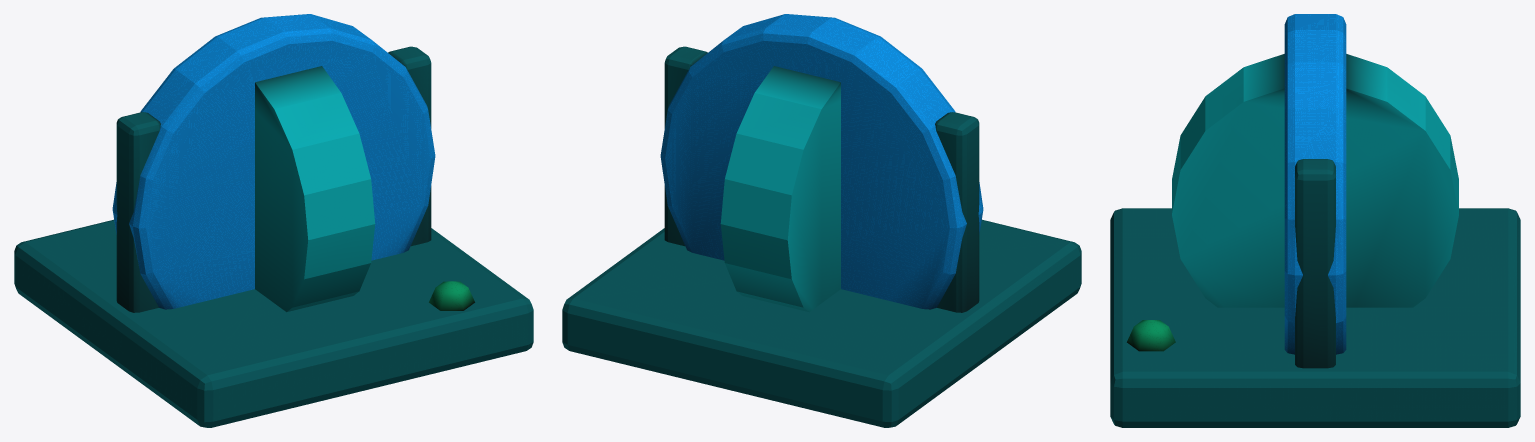
File: part_gyro.glb
3 views of the same model, side by side, from view 1: azimuth 30°, elevation 25°; view 2: azimuth 150°, elevation 25°; view 3: azimuth 270°, elevation 25° (orthographic). The views are drawn at different scales.
Visible parts, largest first — view 1: part_gyro; view 2: part_gyro; view 3: part_gyro.
Part boxes in pixels (bbox=[...]): part_gyro: bbox=[14, 14, 533, 427]; part_gyro: bbox=[562, 14, 1081, 427]; part_gyro: bbox=[1110, 14, 1520, 427].
Size of the model in its own units: 0.2 by 0.18 by 0.2.
Materials: 1 (1 with a texture image).
